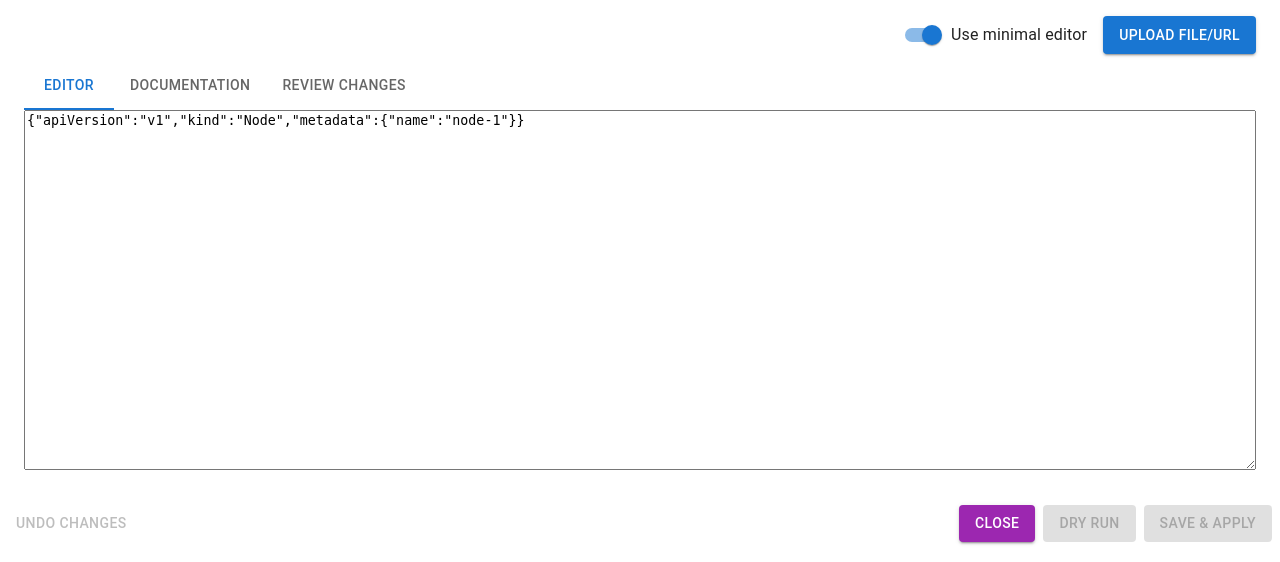
Test: EditorDialog › clears parse errors after undo restores the original content
Replace the text in the text box named "code" with "invalid" at [640, 290], box [24,110,1256,470]
Wait 500 ms
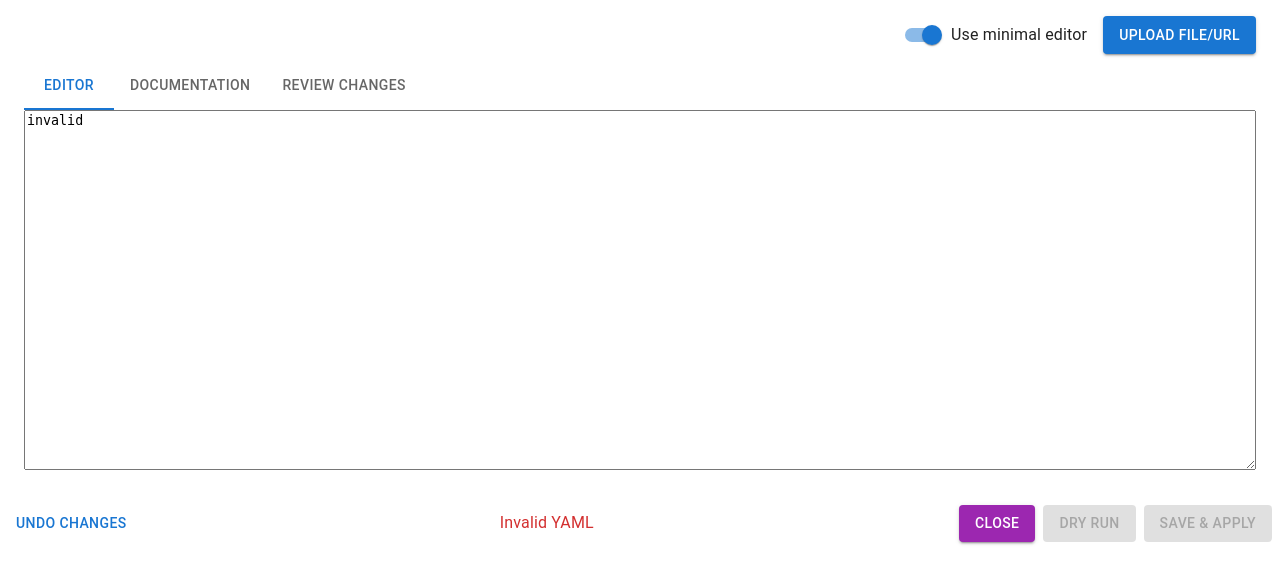
Now the text "Invalid YAML" is shown, box [500,511,594,535]
Click the button "Undo Changes" at [71, 523], box [8,505,135,542]
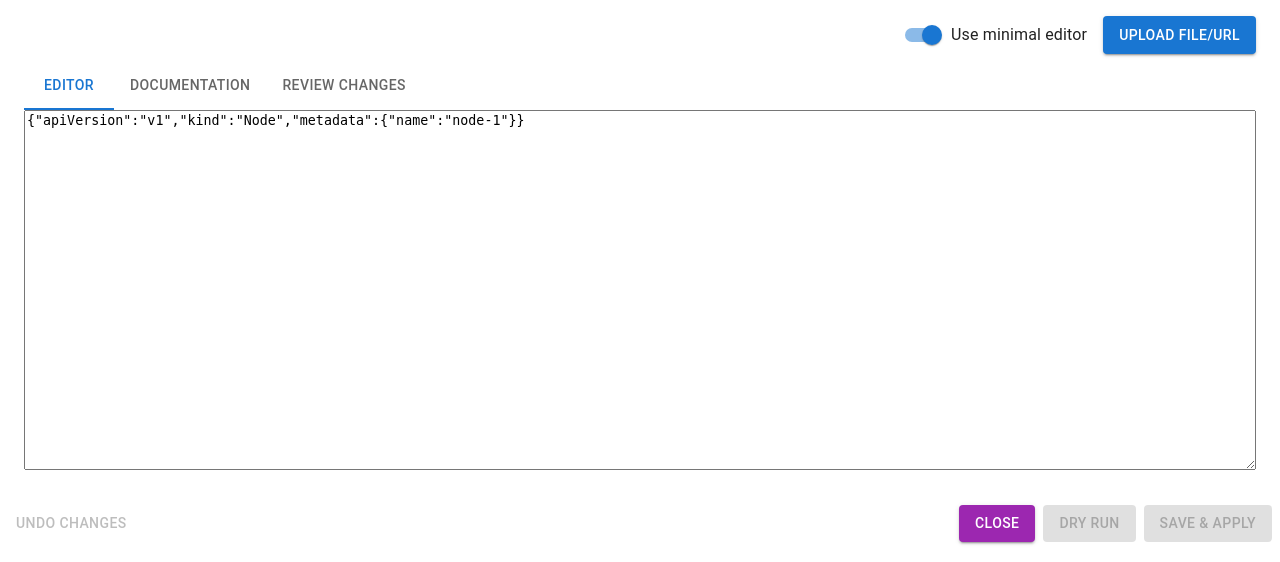
Now the text "Invalid YAML" is gone
